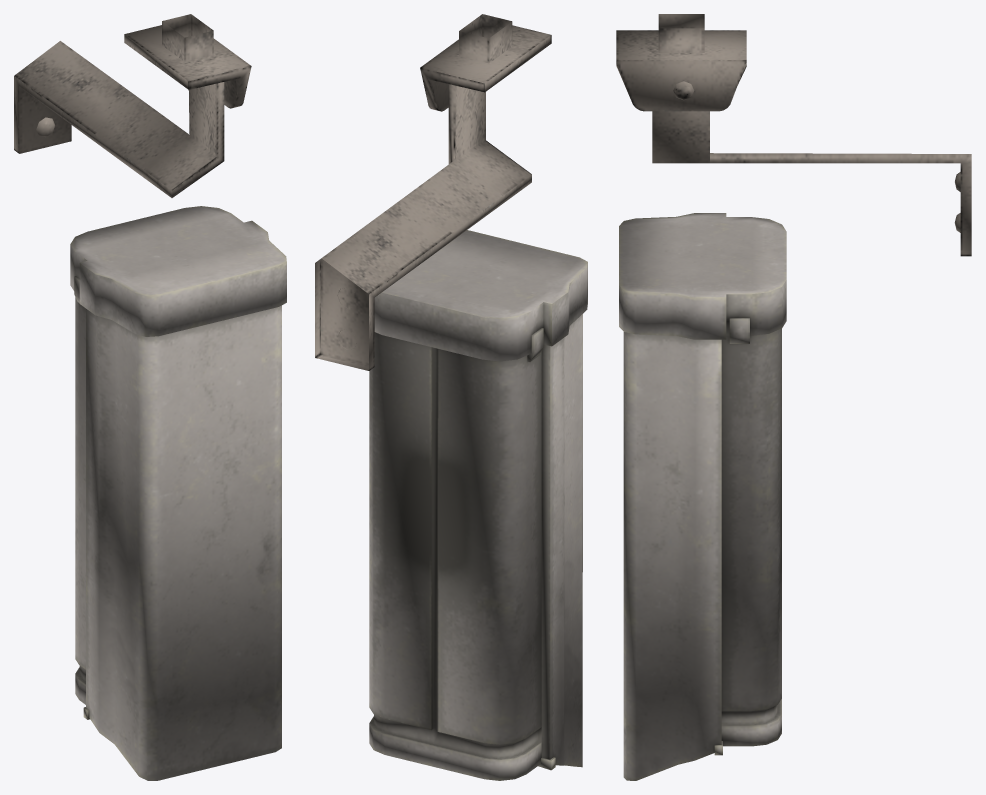
Rendered from SM_CCTV.fbx.
The picture shows the model from 3 angles, left to right: view 1: azimuth 30°, elevation 25°; view 2: azimuth 150°, elevation 25°; view 3: azimuth 270°, elevation 25°; orthographic projection. The views are drawn at different scales.
Visible parts, largest first — view 1: Tilt, SM_CCTV, Pan; view 2: Tilt, SM_CCTV, Pan; view 3: Tilt, Pan, SM_CCTV.
Boxes of the visible parts, x1,y1,x2,y2 form: Tilt: (70,206,286,780); SM_CCTV: (14,41,224,197); Pan: (124,14,251,108); Tilt: (369,230,587,780); SM_CCTV: (315,84,531,370); Pan: (420,14,551,111); Tilt: (619,213,786,780); Pan: (616,14,746,111); SM_CCTV: (652,111,971,256).
Size of the model in its own units: 0.1606 by 0.6399 by 0.2831.
1 material, 1 textured.
